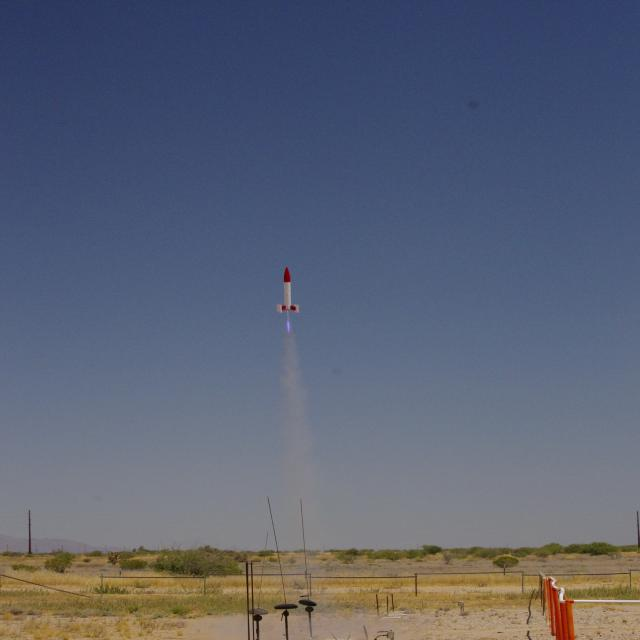Rocket: (276, 266, 300, 313)
